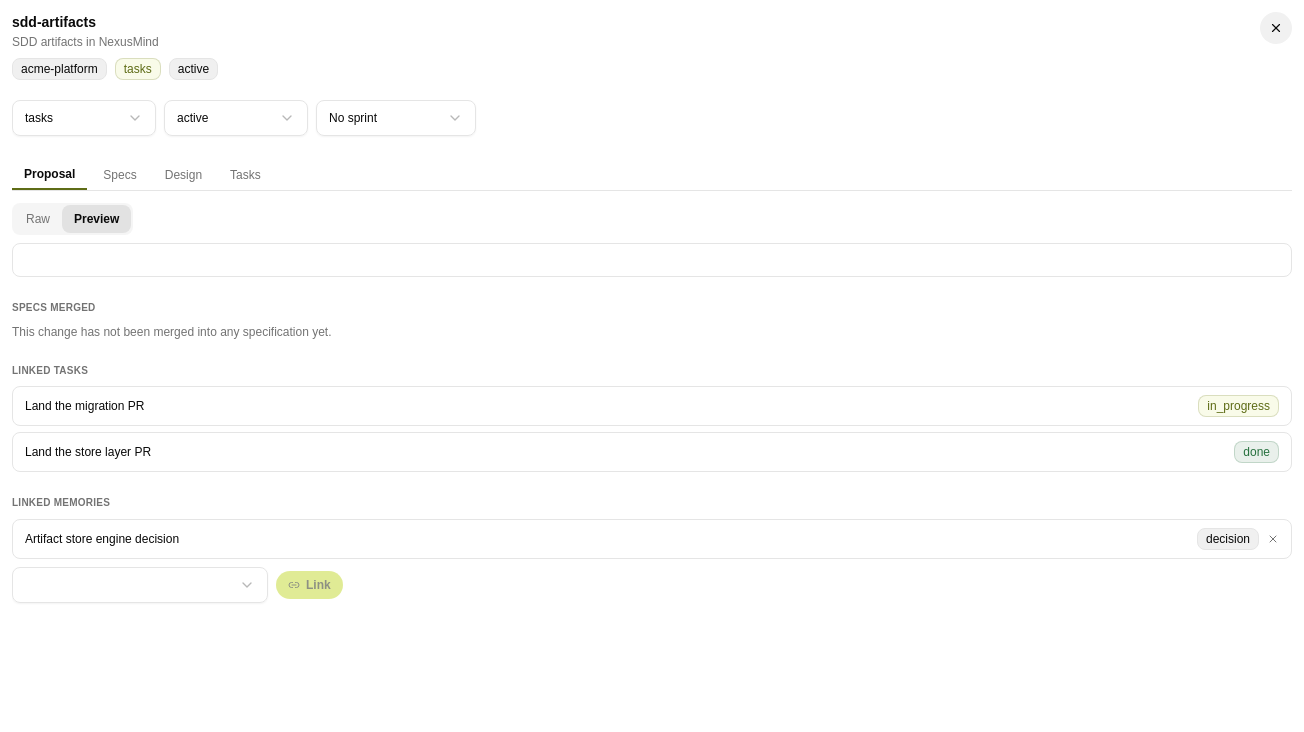
Test: ChangeDetail — specs tab › change_detail_specs_tab_lists_one_entry_per_capability
Click the tab "Specs". click: click(120, 175)
box: [91,161,149,189]
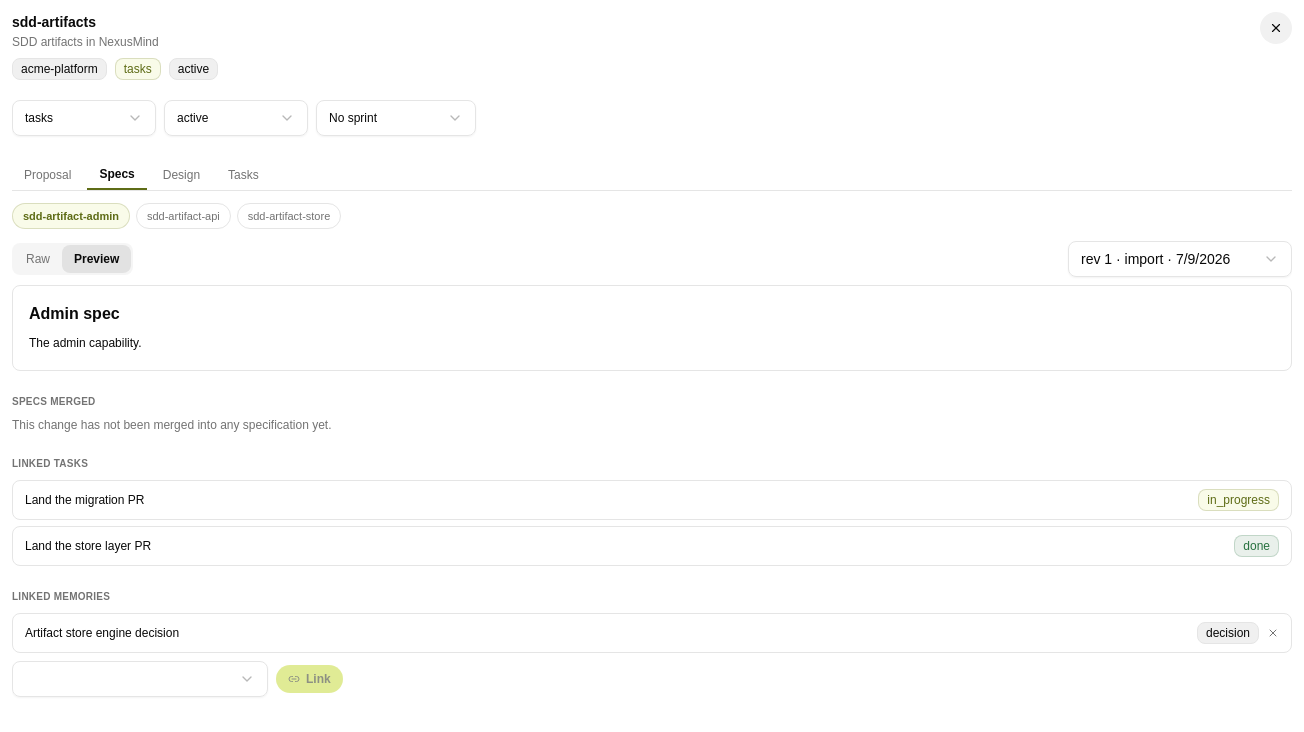
Expected: the button "sdd-artifact-store" is shown, [237,203,341,229]
Expected: the button "sdd-artifact-api" is shown
Expected: the button "sdd-artifact-admin" is shown, [12,203,130,229]
# Selecting a capability renders that capability's spec content.
Click the button "sdd-artifact-api". click: click(183, 216)
box: [136,203,231,229]
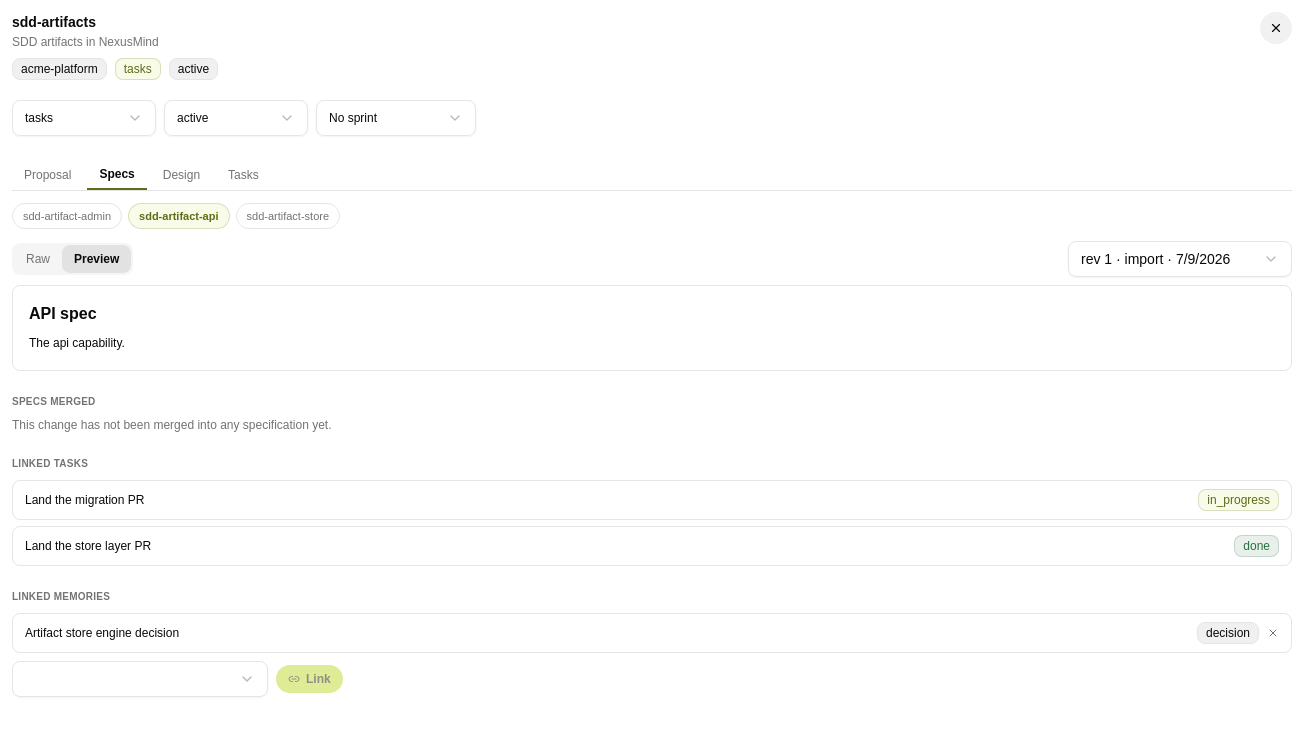
Expected: the text "The api capability." is shown, [29,336,125,350]
